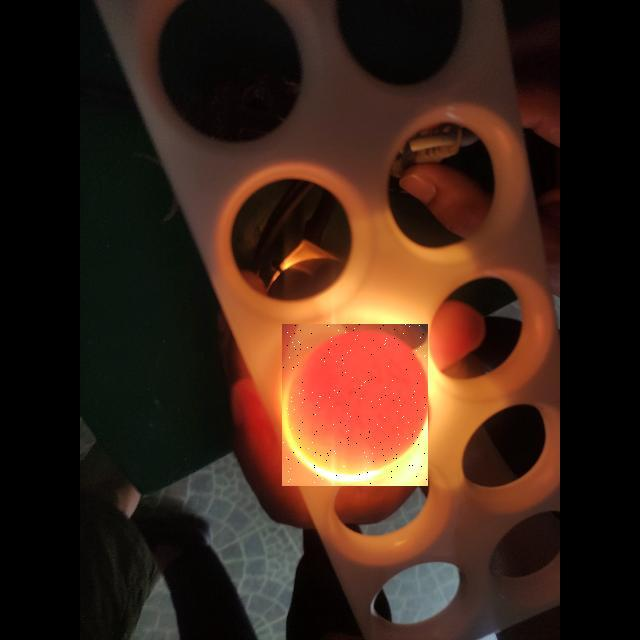A - Good: (282, 324, 428, 486)
